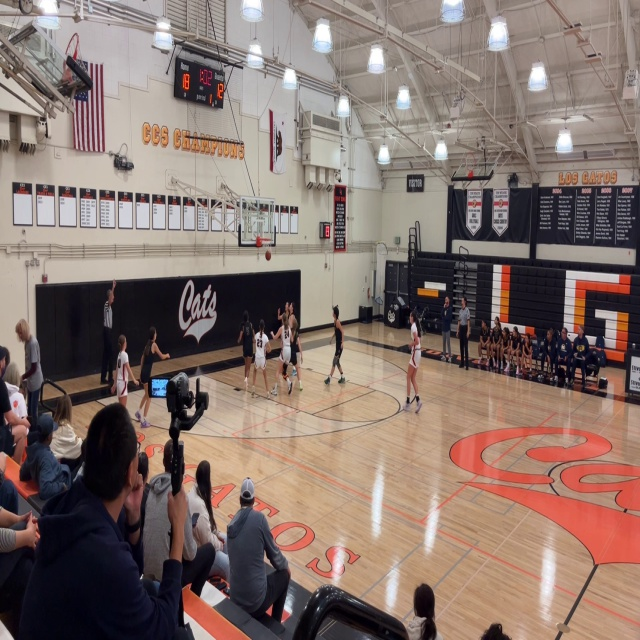Basketball: (265, 251, 271, 260)
